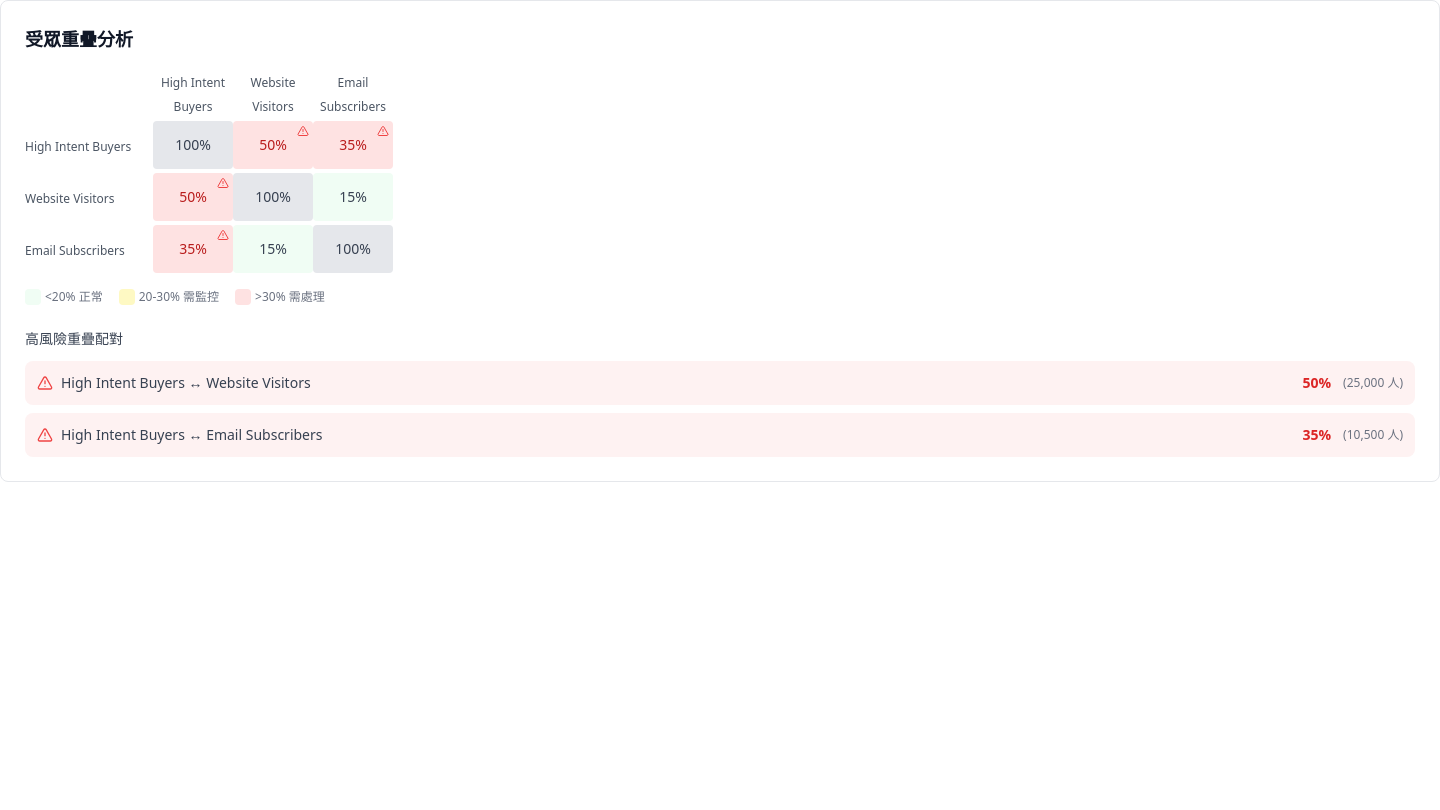
Test: OverlapChart 詳細資訊 (AC3) › should hide tooltip on mouse leave
Hover over the element with test id "overlap-cell-a1-a2": (273,145) top-left (233, 121), bottom-right (313, 169)
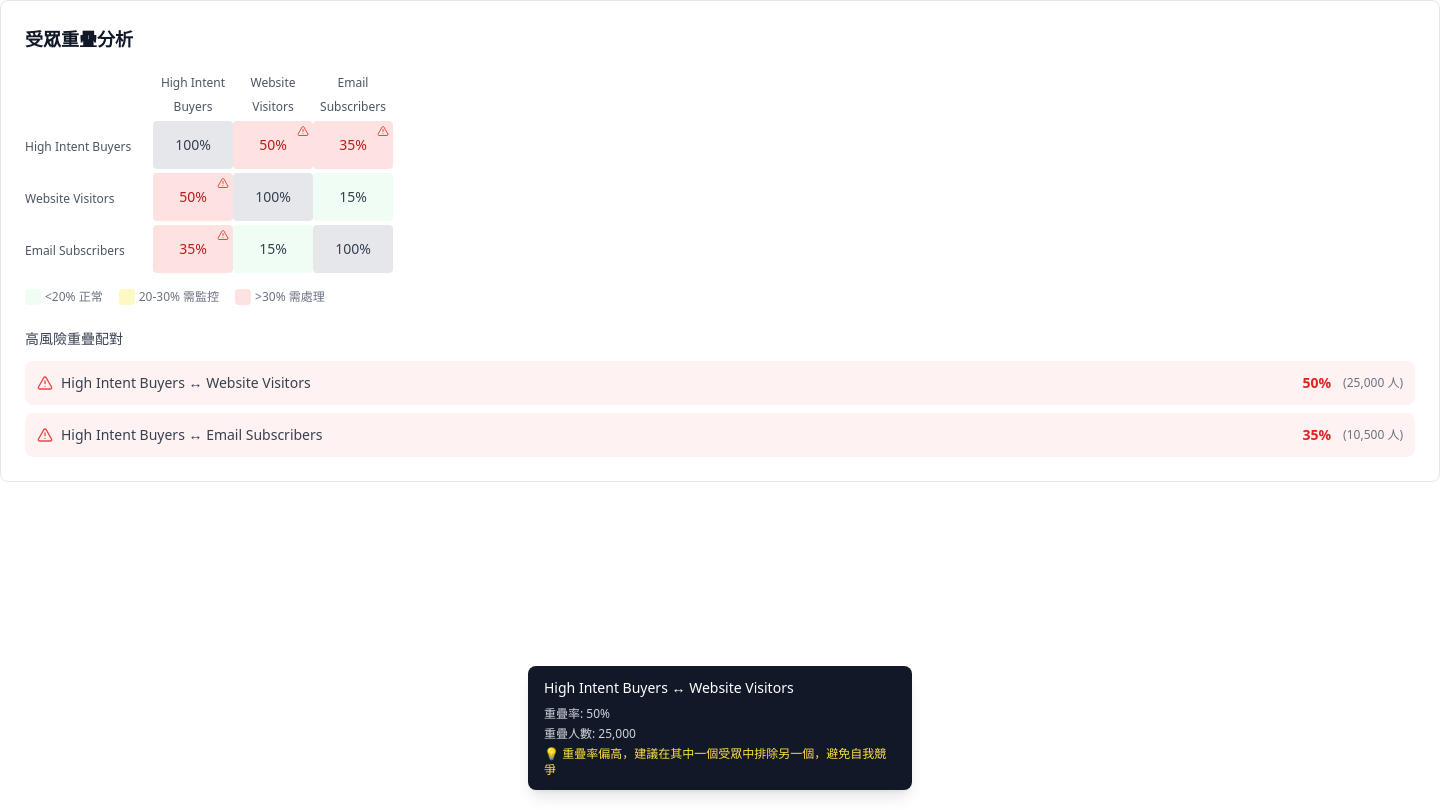
expect the element with test id "overlap-tooltip" is shown: met, box top-left (528, 666), bottom-right (912, 790)
Move the pointer off the element with test id "overlap-cell-a1-a2", box top-left (233, 121), bottom-right (313, 169)
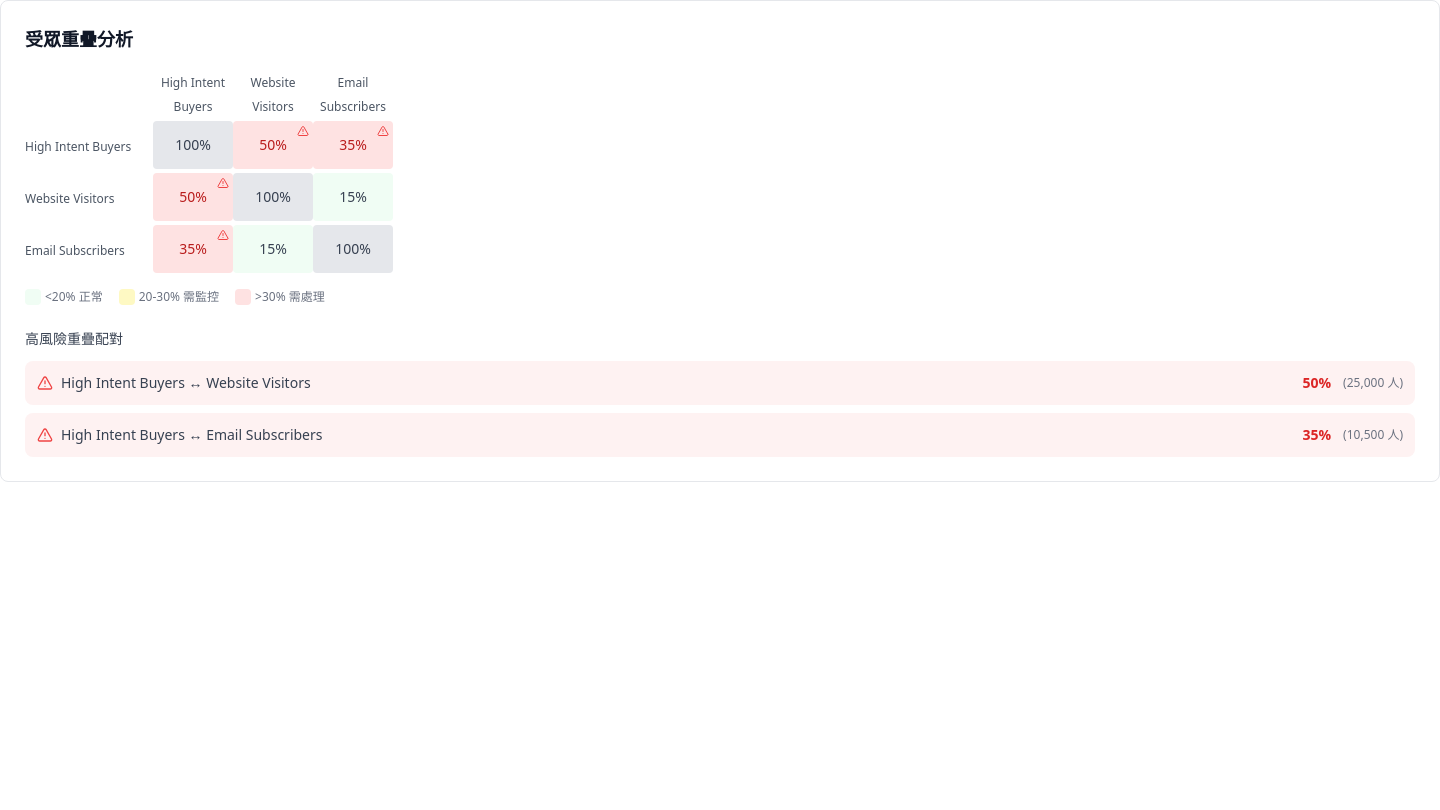
expect the element with test id "overlap-tooltip" is gone: met
